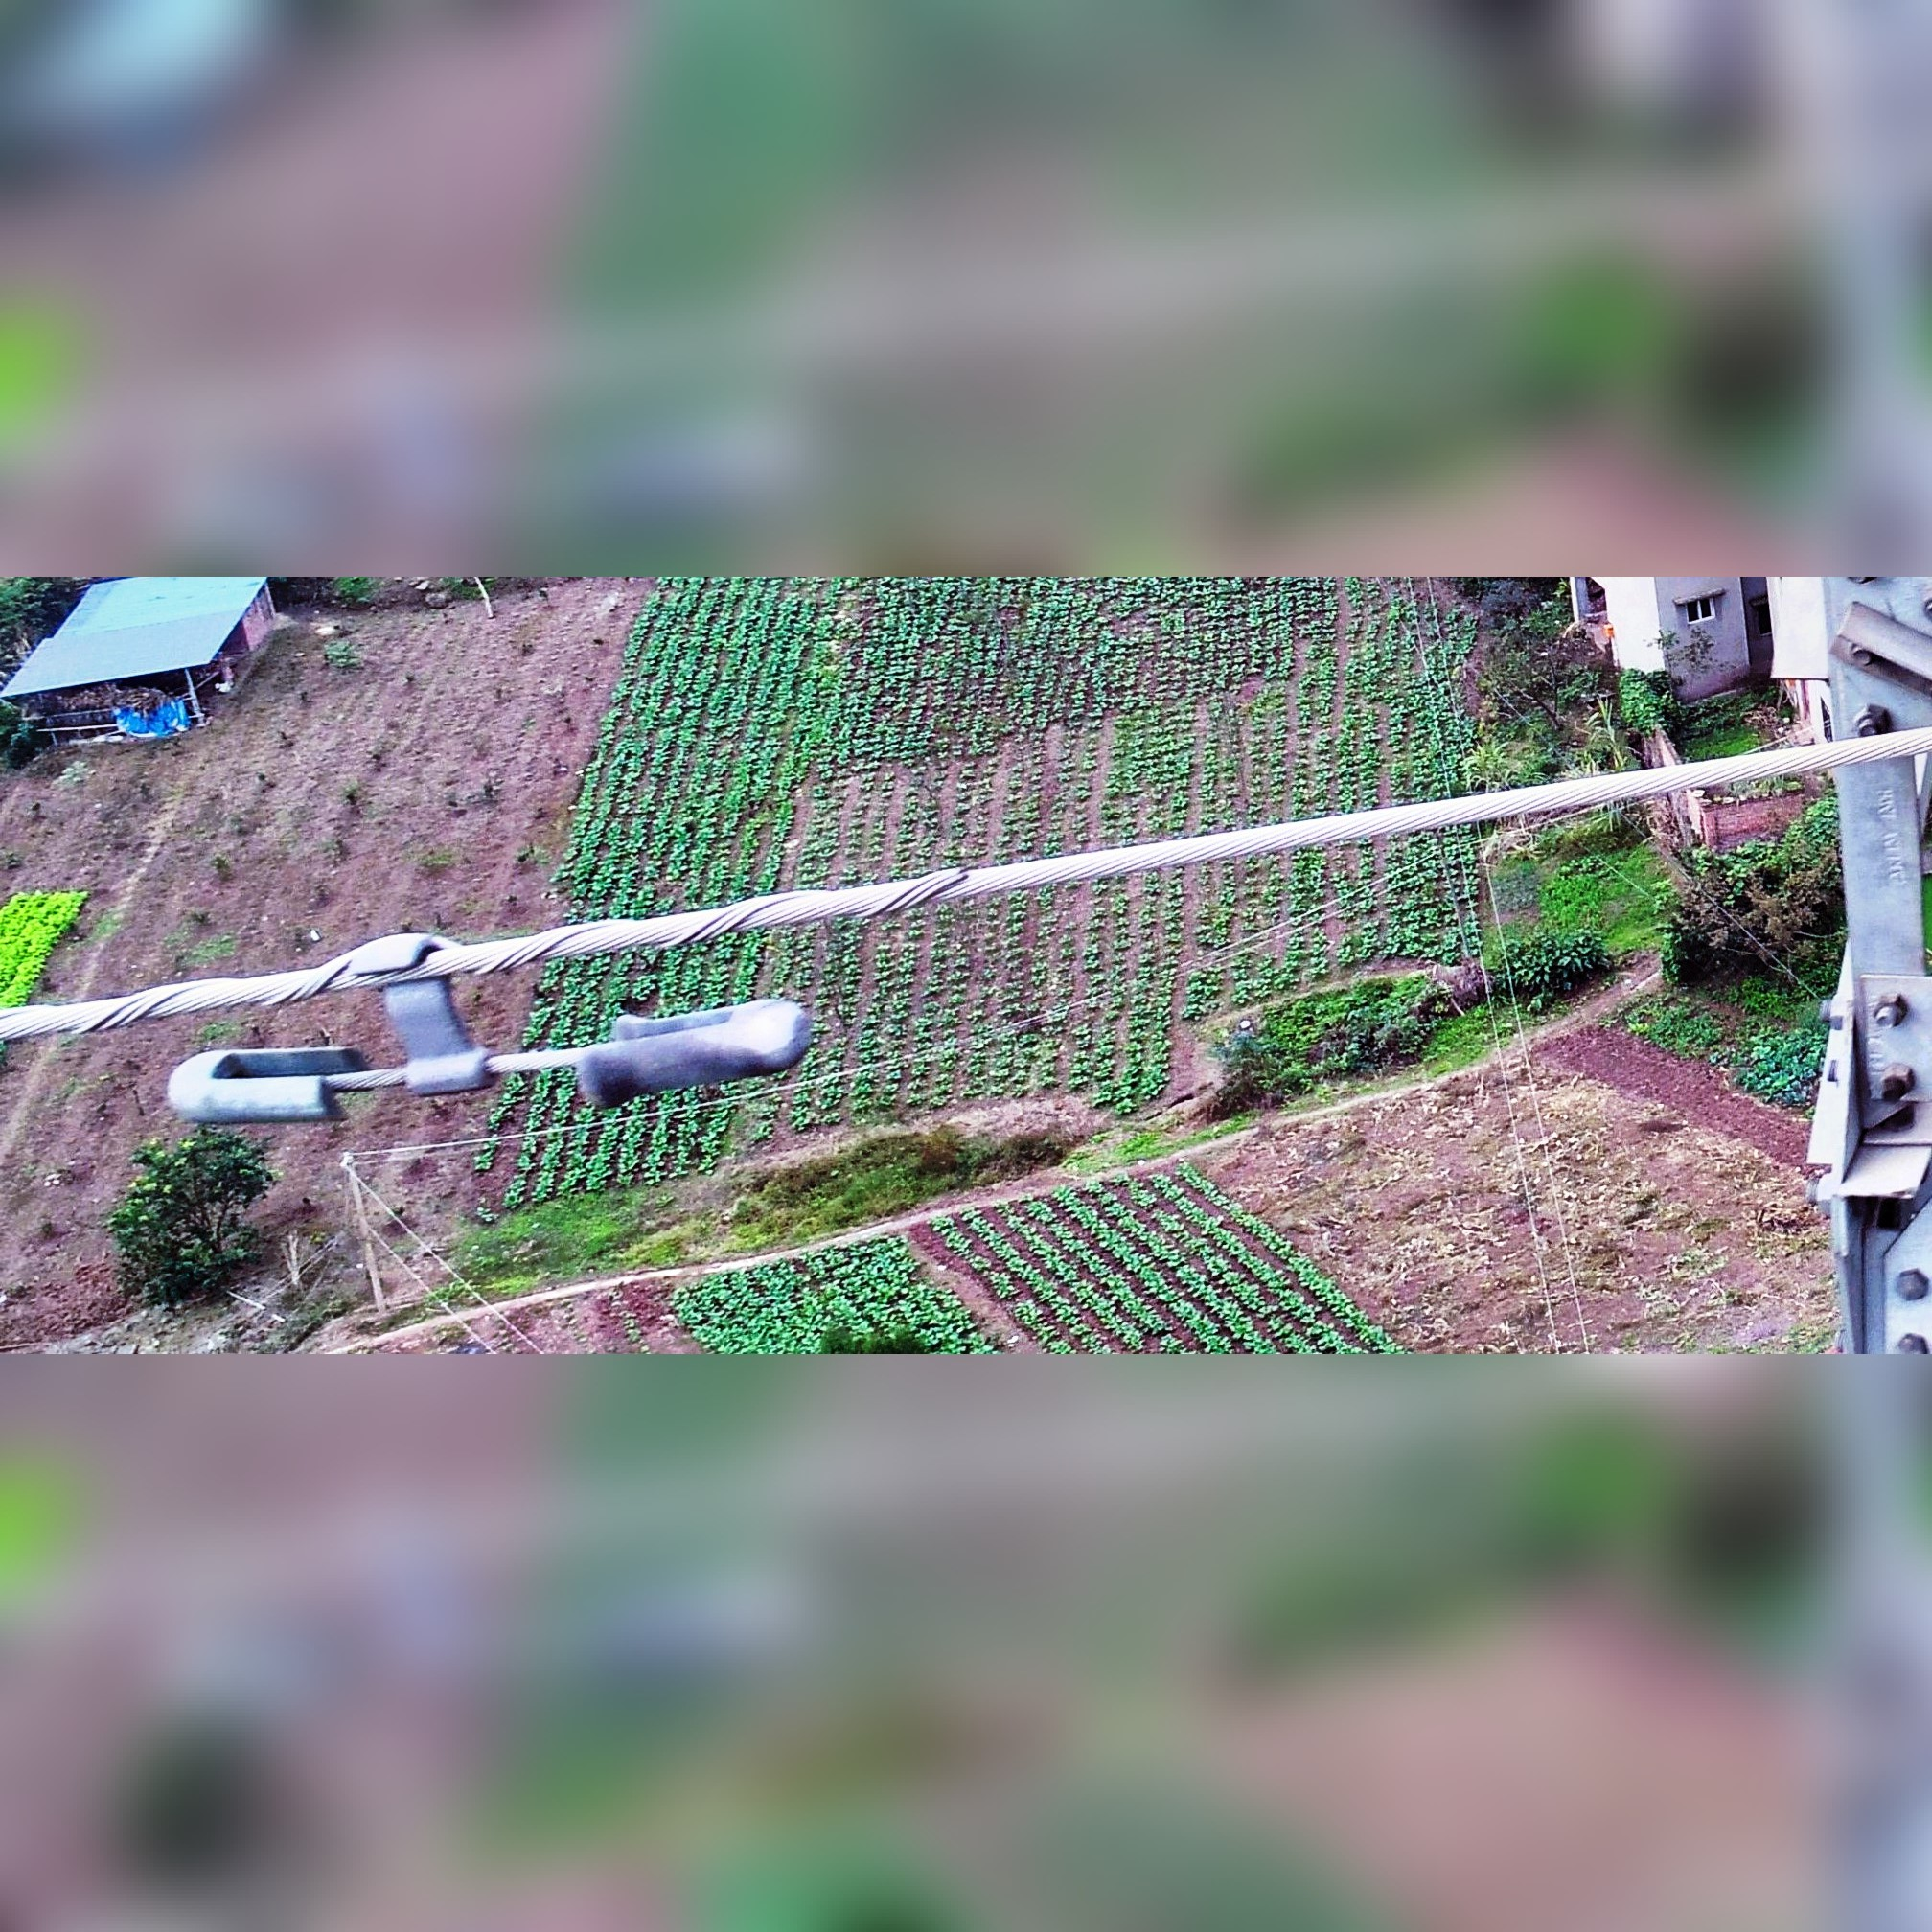Shockproof hammer: (149, 902, 833, 1145)
